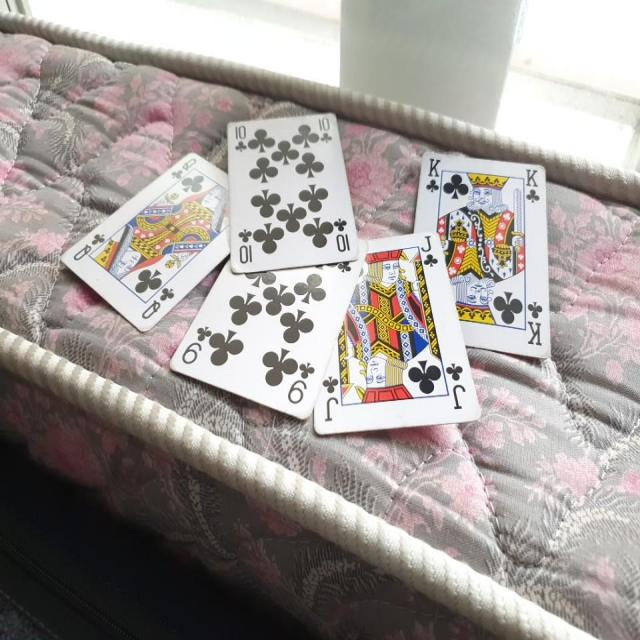10 Trefoils: (224, 109, 361, 274)
9 Trefoils: (168, 236, 370, 418)
J Trefoils: (311, 230, 478, 444)
K Trefoils: (414, 149, 552, 359)
Q Trefoils: (57, 150, 228, 334)
